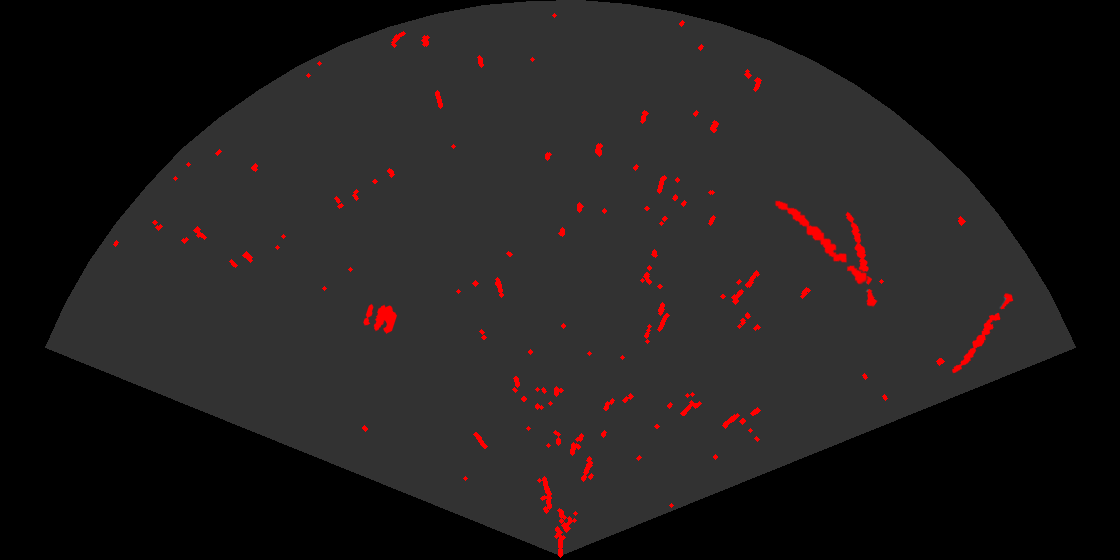ball: (362, 302, 399, 335)
chain: (773, 199, 869, 286), (950, 291, 1015, 375), (844, 210, 879, 309)
